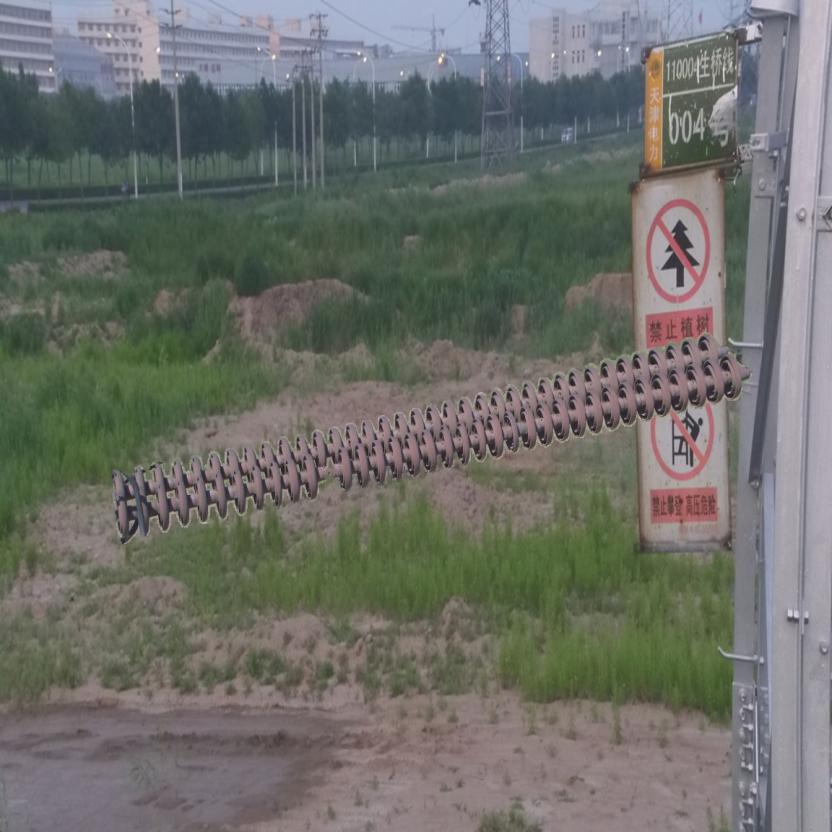defect: (298, 443, 353, 500)
